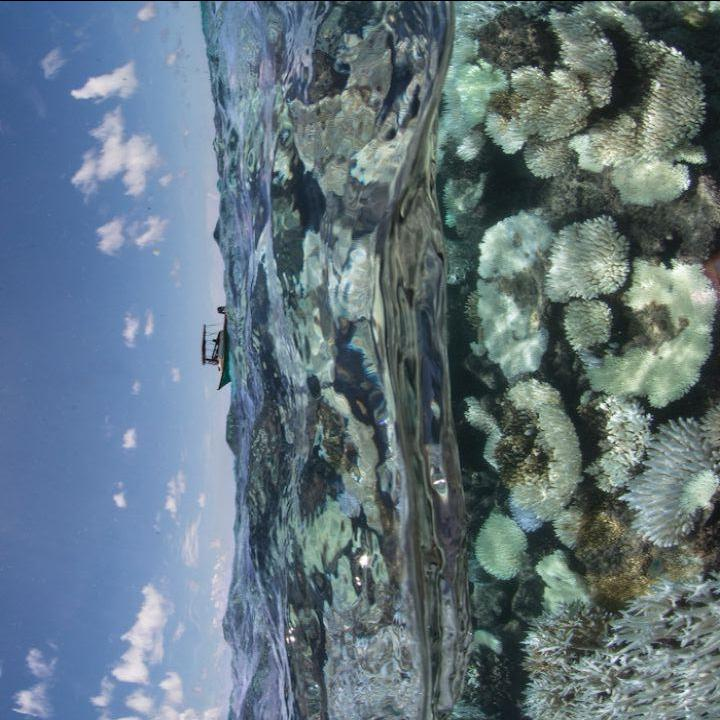Bleached disease: (479, 29, 706, 708)
